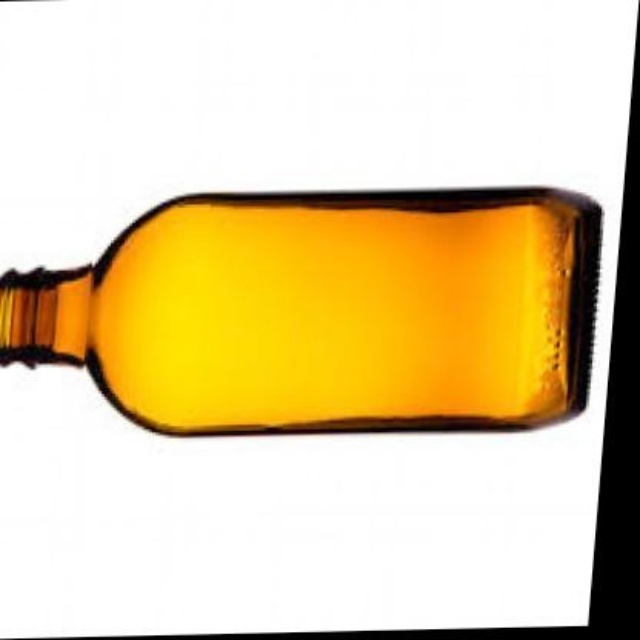trash: (0, 188, 600, 434)
